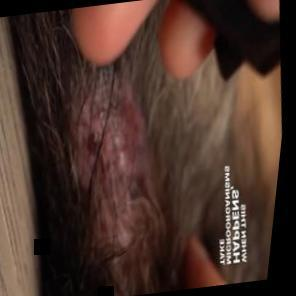skin_lesions: (47, 64, 186, 296)
